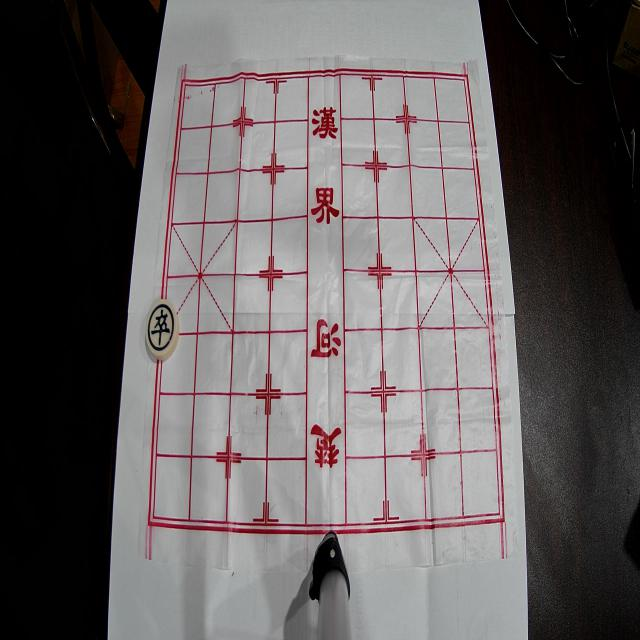black-soldier: (144, 299, 180, 361)
